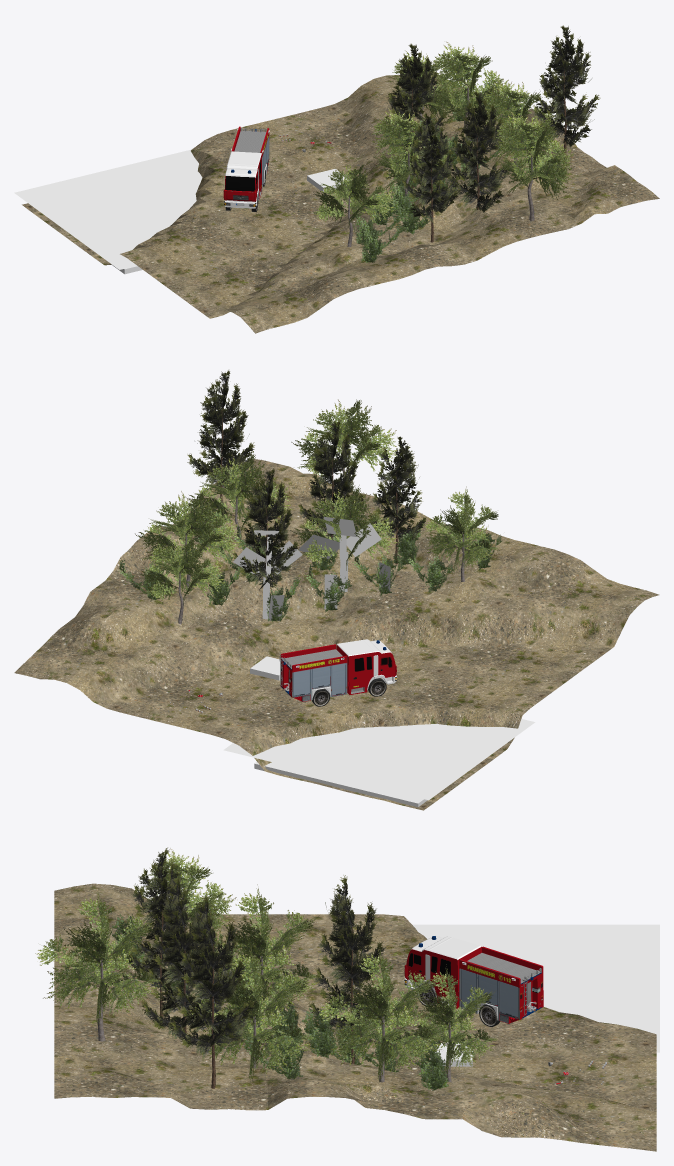
File: forest.glb
The picture shows the model from 3 angles, top to bottom: view 1: azimuth 30°, elevation 25°; view 2: azimuth 150°, elevation 25°; view 3: azimuth 270°, elevation 25°; orthographic projection. The views are drawn at different scales.
Visible parts, largest first — view 1: Batch_U41_ForestLand, Batch_U5_Water, Batch_U6_baum_ld0_mobile__4_, Batch_U21_baum_ld2_mobile__3_, Batch_U16_baum_ld2_mobile__2_, Batch_U7_baum_ld2_mobile, Batch_U9_baum_ld0_mobile__2_, Batch_U129_Firetruck_bearb, Batch_U8_baum_ld0_mobile__3_, Batch_U4_baum_ld0_mobile, Batch_U13_baum_ld2_mobile__1_, Batch_U15_baum_ld0_mobile__1_ (+5 smaller); view 2: Batch_U41_ForestLand, Batch_U5_Water, Batch_U129_Firetruck_bearb, Batch_U9_baum_ld0_mobile__2_, Batch_U21_baum_ld2_mobile__3_, Batch_U13_baum_ld2_mobile__1_, Batch_U6_baum_ld0_mobile__4_, Batch_U4_baum_ld0_mobile, Batch_U7_baum_ld2_mobile, Batch_U8_baum_ld0_mobile__3_, Batch_U15_baum_ld0_mobile__1_, Batch_U16_baum_ld2_mobile__2_ (+6 smaller); view 3: Batch_U41_ForestLand, Batch_U5_Water, Batch_U6_baum_ld0_mobile__4_, Batch_U9_baum_ld0_mobile__2_, Batch_U129_Firetruck_bearb, Batch_U21_baum_ld2_mobile__3_, Batch_U15_baum_ld0_mobile__1_, Batch_U13_baum_ld2_mobile__1_, Batch_U4_baum_ld0_mobile, Batch_U16_baum_ld2_mobile__2_, Batch_U11_baum_ld0_mobile__5_, Batch_U7_baum_ld2_mobile (+6 smaller).
Boxes of the visible parts, bbox=[...] form: Batch_U41_ForestLand: bbox=[22, 73, 659, 333]; Batch_U5_Water: bbox=[14, 149, 202, 269]; Batch_U6_baum_ld0_mobile__4_: bbox=[492, 110, 575, 220]; Batch_U21_baum_ld2_mobile__3_: bbox=[532, 25, 600, 168]; Batch_U16_baum_ld2_mobile__2_: bbox=[445, 91, 511, 213]; Batch_U7_baum_ld2_mobile: bbox=[402, 113, 461, 242]; Batch_U9_baum_ld0_mobile__2_: bbox=[430, 41, 511, 140]; Batch_U129_Firetruck_bearb: bbox=[223, 126, 269, 208]; Batch_U8_baum_ld0_mobile__3_: bbox=[308, 162, 397, 246]; Batch_U4_baum_ld0_mobile: bbox=[369, 107, 452, 202]; Batch_U13_baum_ld2_mobile__1_: bbox=[382, 43, 448, 188]; Batch_U15_baum_ld0_mobile__1_: bbox=[482, 78, 560, 166]; Batch_U41_ForestLand: bbox=[14, 459, 659, 810]; Batch_U5_Water: bbox=[223, 719, 535, 800]; Batch_U129_Firetruck_bearb: bbox=[279, 639, 397, 701]; Batch_U9_baum_ld0_mobile__2_: bbox=[135, 491, 245, 587]; Batch_U21_baum_ld2_mobile__3_: bbox=[187, 370, 254, 505]; Batch_U13_baum_ld2_mobile__1_: bbox=[231, 468, 299, 589]; Batch_U6_baum_ld0_mobile__4_: bbox=[291, 399, 398, 500]; Batch_U4_baum_ld0_mobile: bbox=[290, 487, 401, 570]; Batch_U7_baum_ld2_mobile: bbox=[367, 436, 426, 564]; Batch_U8_baum_ld0_mobile__3_: bbox=[424, 486, 499, 581]; Batch_U15_baum_ld0_mobile__1_: bbox=[185, 454, 296, 540]; Batch_U16_baum_ld2_mobile__2_: bbox=[298, 420, 365, 538]; Batch_U41_ForestLand: bbox=[54, 883, 656, 1151]; Batch_U5_Water: bbox=[412, 924, 659, 1052]; Batch_U6_baum_ld0_mobile__4_: bbox=[35, 892, 161, 1041]; Batch_U9_baum_ld0_mobile__2_: bbox=[318, 945, 442, 1082]; Batch_U129_Firetruck_bearb: bbox=[404, 935, 543, 1023]; Batch_U21_baum_ld2_mobile__3_: bbox=[168, 892, 256, 1088]; Batch_U15_baum_ld0_mobile__1_: bbox=[188, 947, 313, 1082]; Batch_U13_baum_ld2_mobile__1_: bbox=[308, 875, 395, 1063]; Batch_U4_baum_ld0_mobile: bbox=[198, 884, 320, 1028]; Batch_U16_baum_ld2_mobile__2_: bbox=[141, 875, 218, 1039]; Batch_U11_baum_ld0_mobile__5_: bbox=[399, 964, 497, 1082]; Batch_U7_baum_ld2_mobile: bbox=[125, 847, 192, 1017].
Size of what is drawn, in the model's own units: 43.74 by 22.57 by 45.53.
25 materials, 15 textured.
